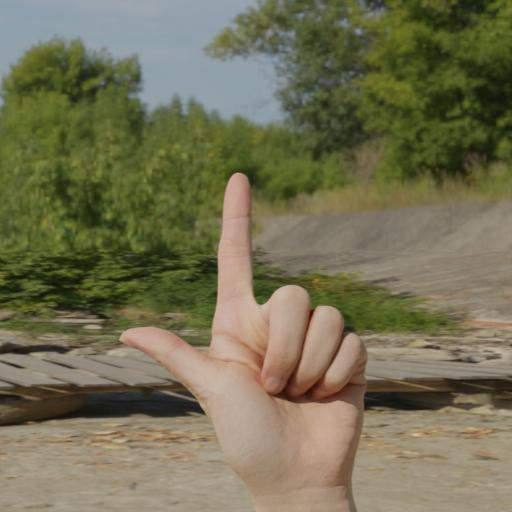L: (104, 166, 378, 512)
